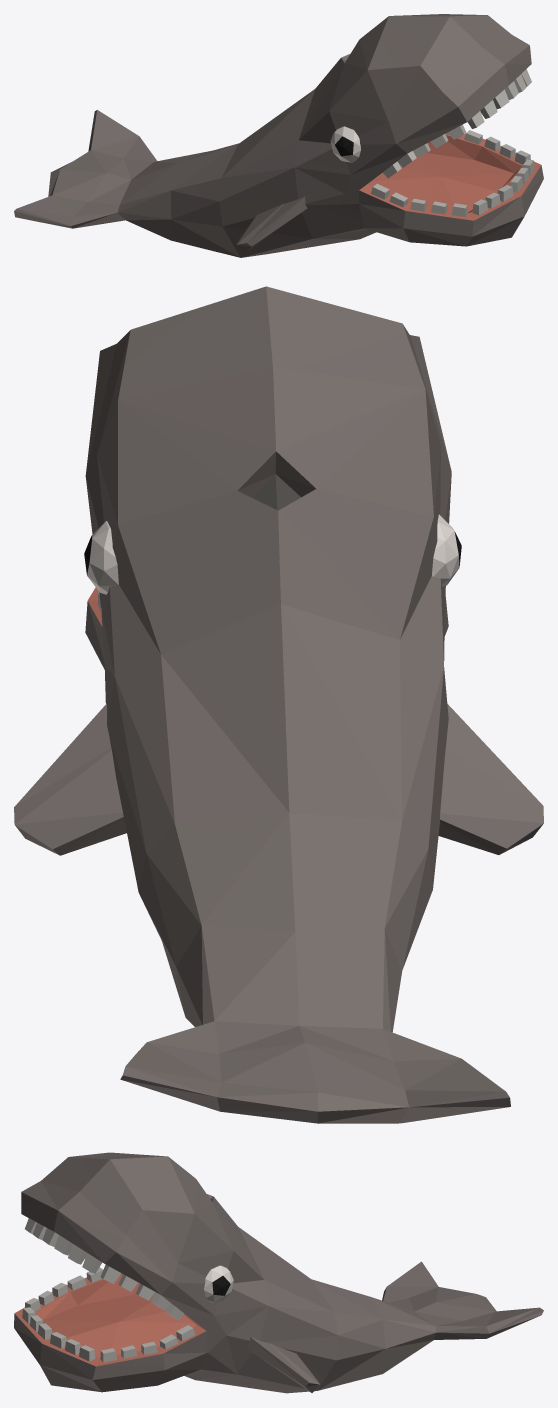
The model's file is dungeonWhale.fbx.
3 views of the same model, one above another, from view 1: azimuth 30°, elevation 25°; view 2: azimuth 150°, elevation 25°; view 3: azimuth 270°, elevation 25° (orthographic). The views are drawn at different scales.
Visible parts, largest first — view 1: dungeonWhale; view 2: dungeonWhale; view 3: dungeonWhale.
Part boxes in pixels (x1,y1,x2,y2): dungeonWhale: (14,14,543,257); dungeonWhale: (14,286,543,1123); dungeonWhale: (14,1152,543,1393).
Bounding box in the file's own units: 3.65 × 2.65 × 4.52.
